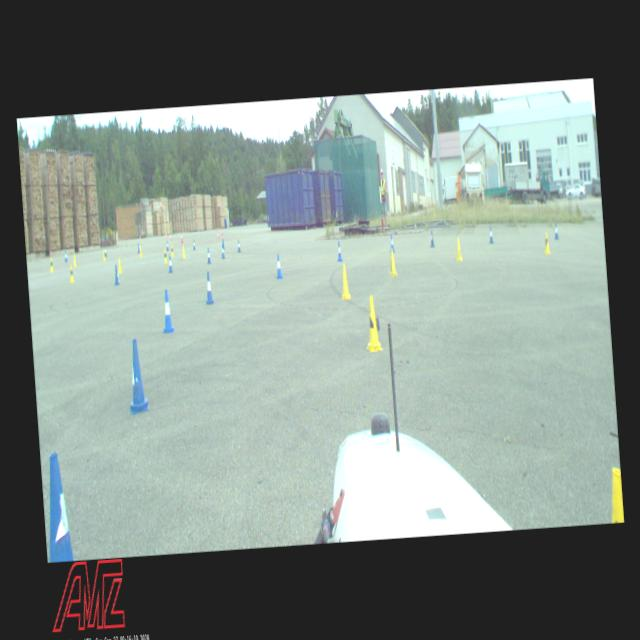blue_cone: (40, 452, 73, 562), (125, 338, 149, 414), (160, 289, 175, 333), (204, 271, 213, 304), (275, 254, 282, 279), (335, 240, 342, 262), (114, 264, 120, 284), (488, 226, 494, 243), (429, 230, 434, 247), (554, 222, 558, 240), (390, 234, 394, 252), (220, 244, 225, 258), (168, 255, 172, 272), (206, 246, 210, 262), (237, 239, 240, 252), (64, 248, 67, 261), (192, 239, 195, 250), (166, 240, 169, 251), (222, 238, 224, 249)
orange_cone: (180, 232, 183, 243), (217, 231, 220, 239), (170, 233, 172, 240), (220, 228, 222, 235), (166, 232, 167, 238)
yellow_cone: (363, 296, 382, 352), (606, 468, 624, 522), (339, 262, 351, 300), (388, 250, 397, 276), (454, 236, 462, 260), (542, 232, 550, 254), (68, 264, 74, 282), (48, 256, 54, 272), (162, 248, 168, 262), (117, 258, 122, 274), (182, 246, 186, 259), (170, 244, 174, 256), (102, 248, 106, 260), (139, 245, 142, 258), (73, 253, 76, 266)
